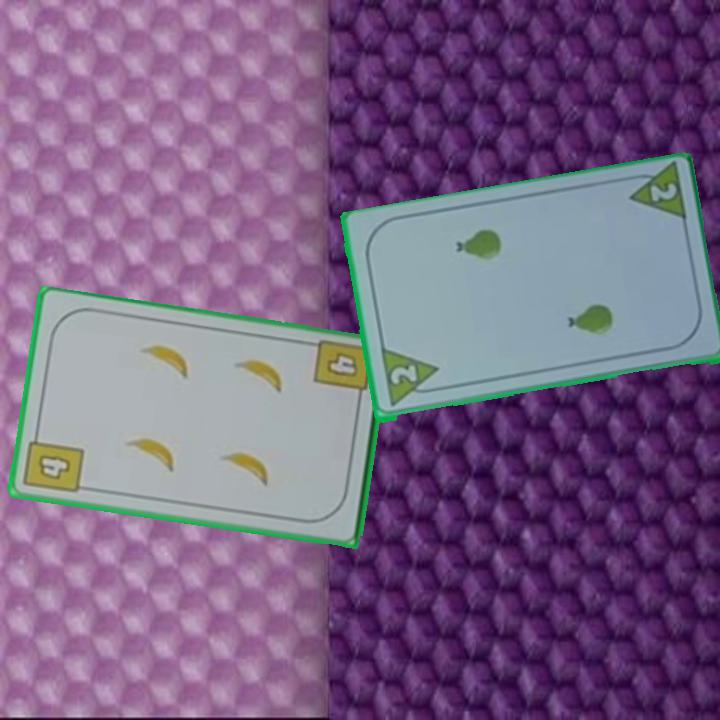2p: (386, 362, 420, 389), (646, 179, 680, 206)
4b: (20, 427, 87, 497), (310, 336, 376, 407)
